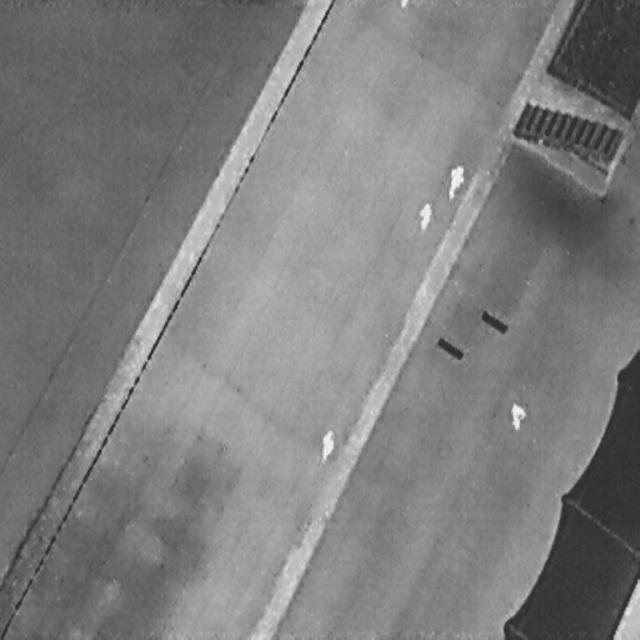Person: (444, 158, 467, 202), (317, 425, 338, 464), (415, 198, 432, 234), (508, 400, 526, 430)
